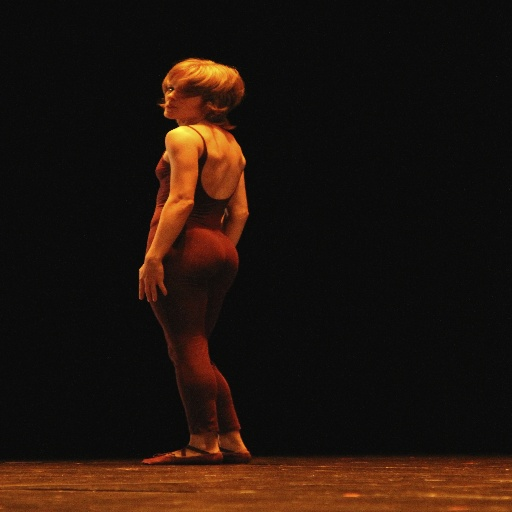hand: (134, 246, 172, 311)
